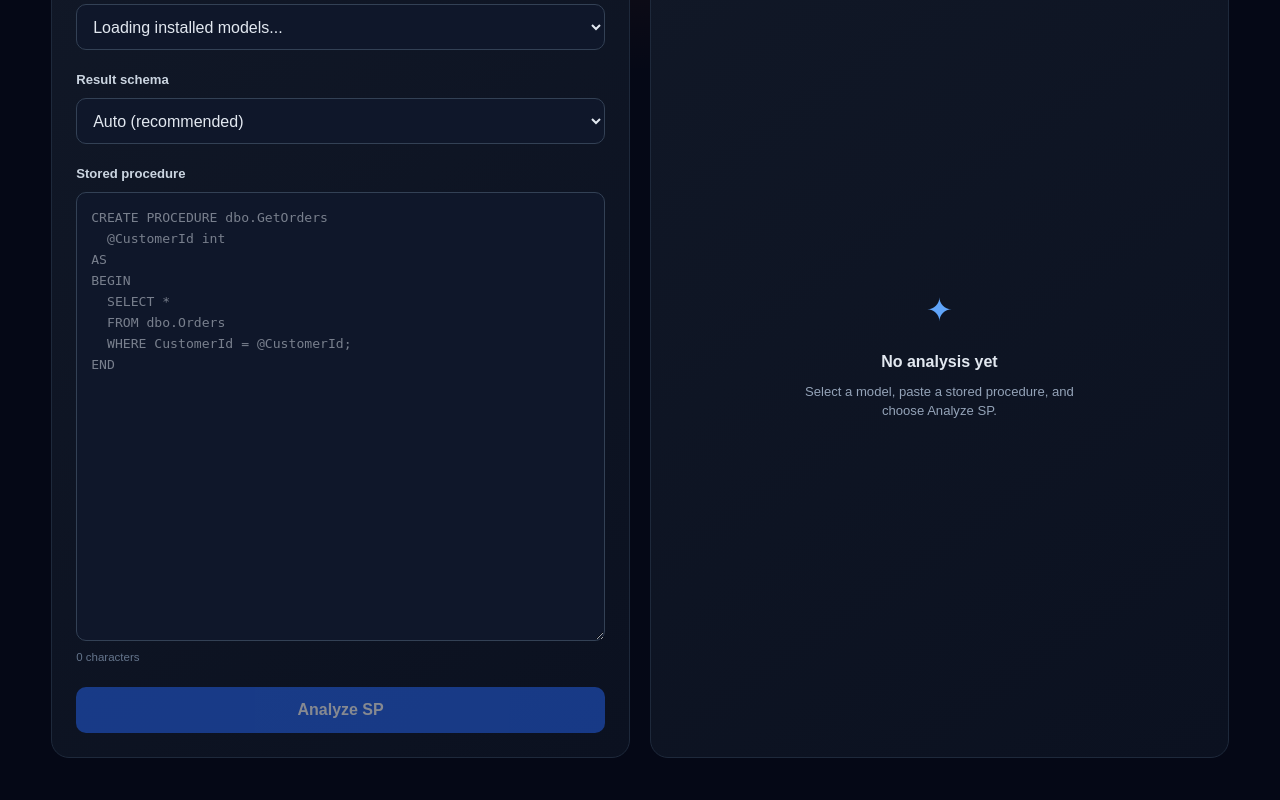
Scenario: ReviewPage › shows a clear message for 429
(page scrolled)
Replace the text in the text box with placeholder "CREATE PROCEDURE" with "select 1": (341, 417) 76,192 -> 605,641
(page scrolled)
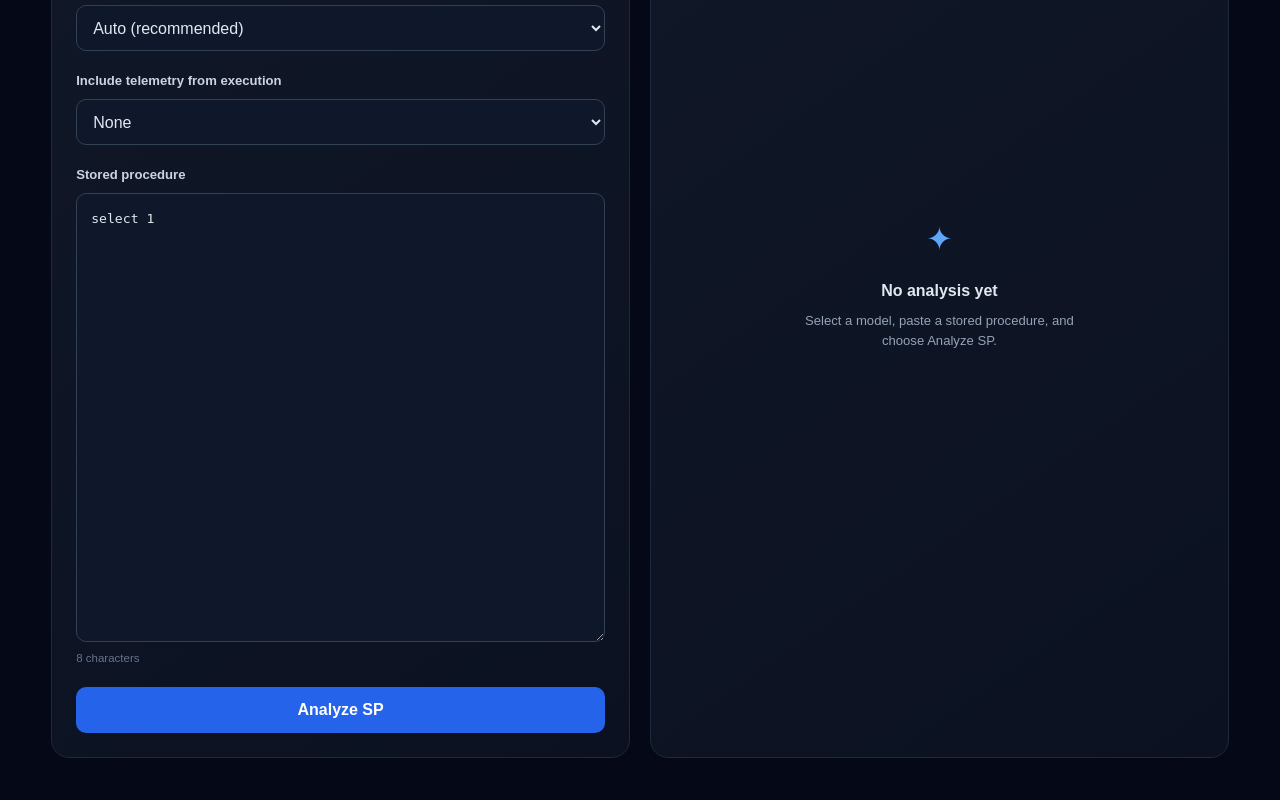
Click the button "Analyze SP": (341, 710) 76,688 -> 605,734
(page scrolled)
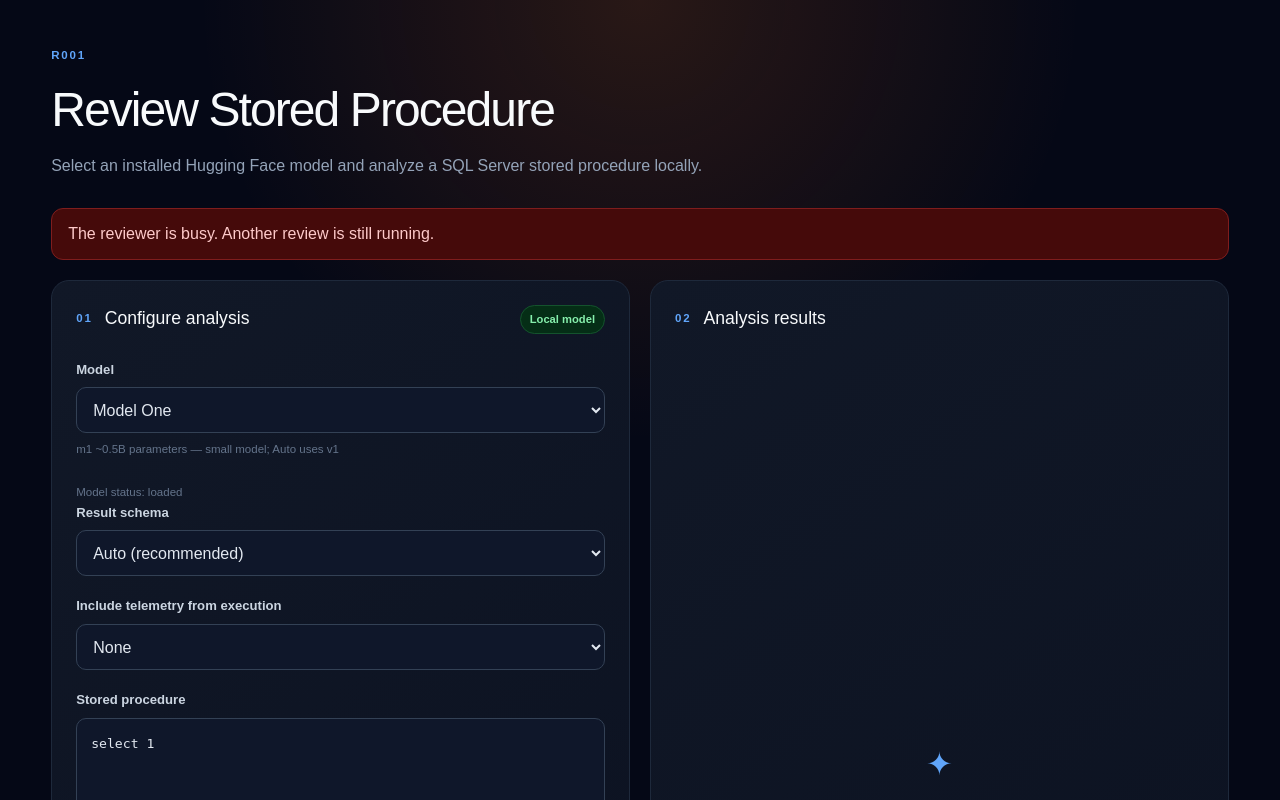
Expected: the message shows "busy", 68,225 -> 434,242
